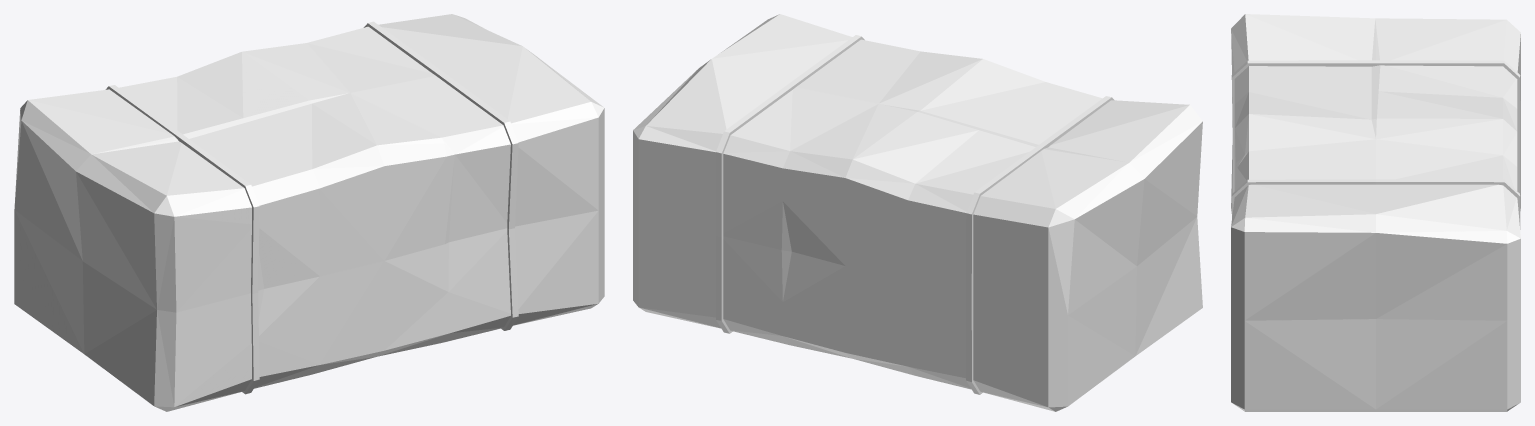
The model's file is Prop_Hay_Bale_Square_01.glb.
3 views of the same model, side by side, from view 1: azimuth 30°, elevation 25°; view 2: azimuth 150°, elevation 25°; view 3: azimuth 270°, elevation 25° (orthographic). The views are drawn at different scales.
Parts seen in each view (by area): view 1: Prop_Hay_Bale_Square_01; view 2: Prop_Hay_Bale_Square_01; view 3: Prop_Hay_Bale_Square_01.
Part boxes in pixels (x1,y1,x2,y2): Prop_Hay_Bale_Square_01: [14, 14, 604, 411]; Prop_Hay_Bale_Square_01: [633, 14, 1202, 411]; Prop_Hay_Bale_Square_01: [1231, 14, 1520, 411].
Size of the model in its own units: 1.77 by 0.8049 by 1.03.
Materials: 1 (1 with a texture image).
